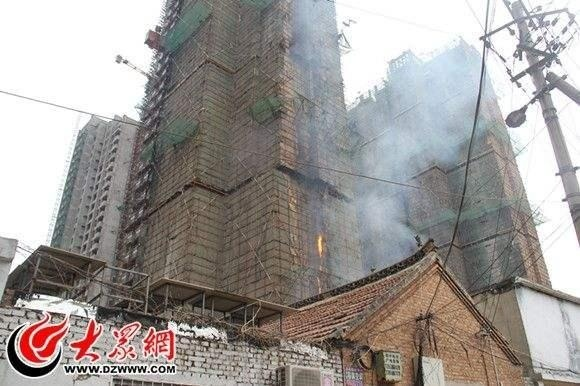fire: (314, 231, 325, 255)
